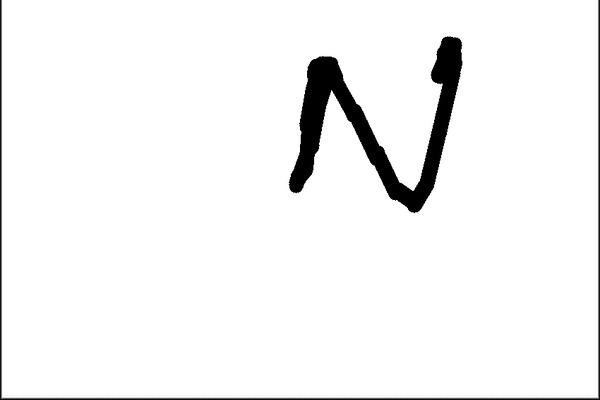N: (282, 31, 468, 216)
